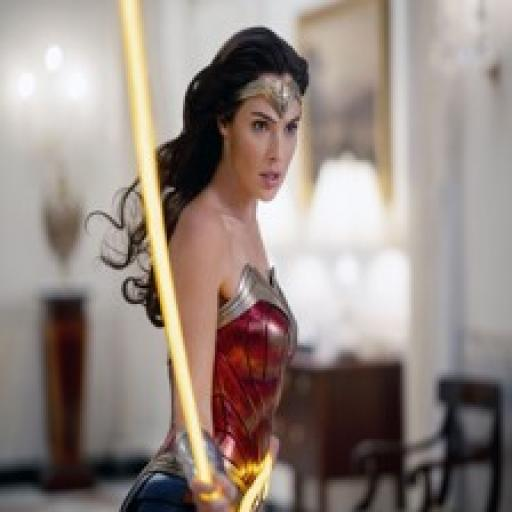human: (118, 17, 345, 512)
